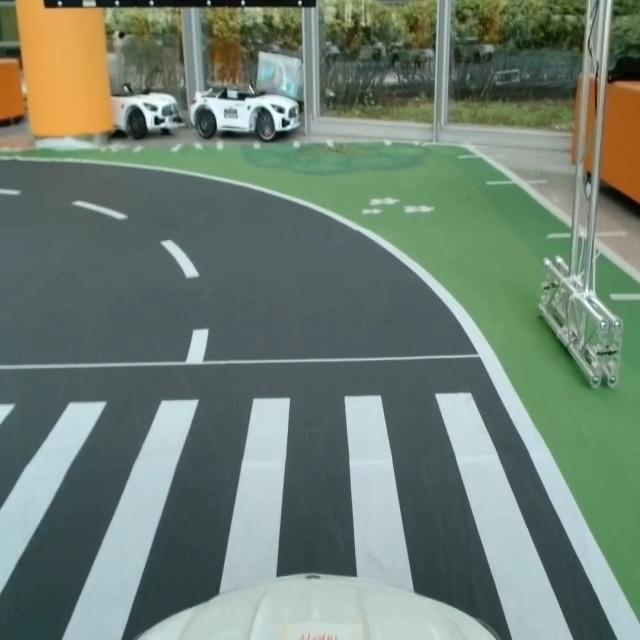traffic-light: (42, 0, 322, 14)
